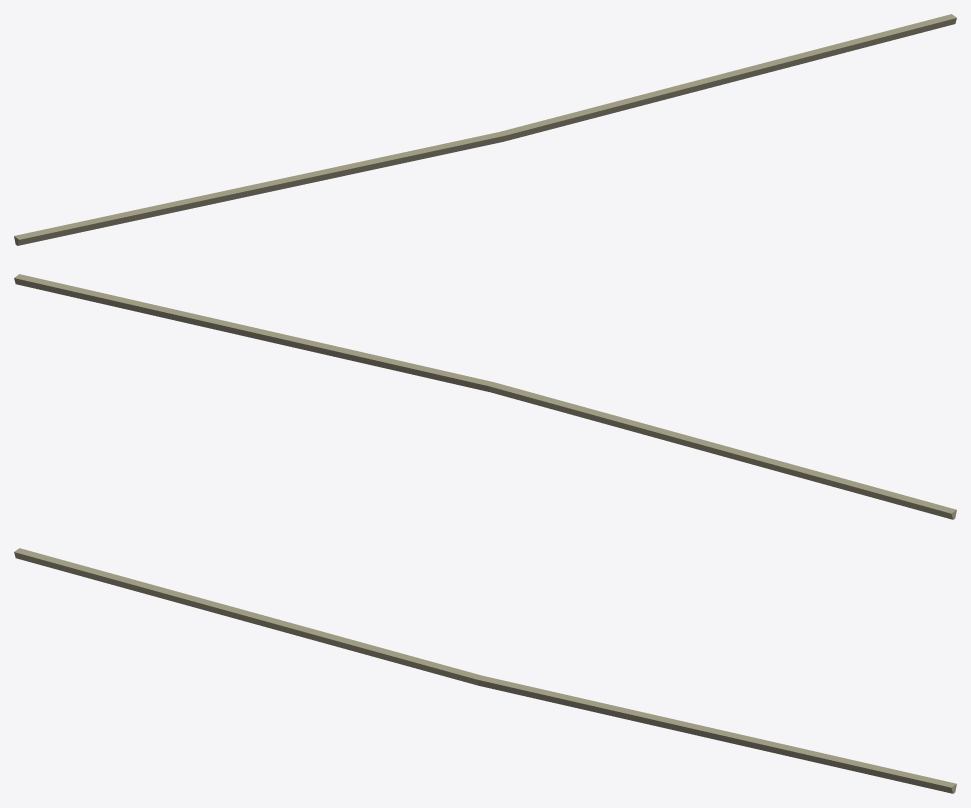
Rendered from LongKinkedNarrowBeam.fbx.
3 renders of one model, top to bottom at view 1: azimuth 30°, elevation 25°; view 2: azimuth 150°, elevation 25°; view 3: azimuth 330°, elevation 25°, orthographic.
Parts seen in each view (by area): view 1: shortcut beam.003; view 2: shortcut beam.003; view 3: shortcut beam.003.
Part boxes in pixels (x1,y1,x2,y2): shortcut beam.003: [14, 14, 956, 245]; shortcut beam.003: [14, 274, 956, 519]; shortcut beam.003: [14, 548, 956, 793].
Bounding box in the file's own units: 4695 × 35.27 × 176.
